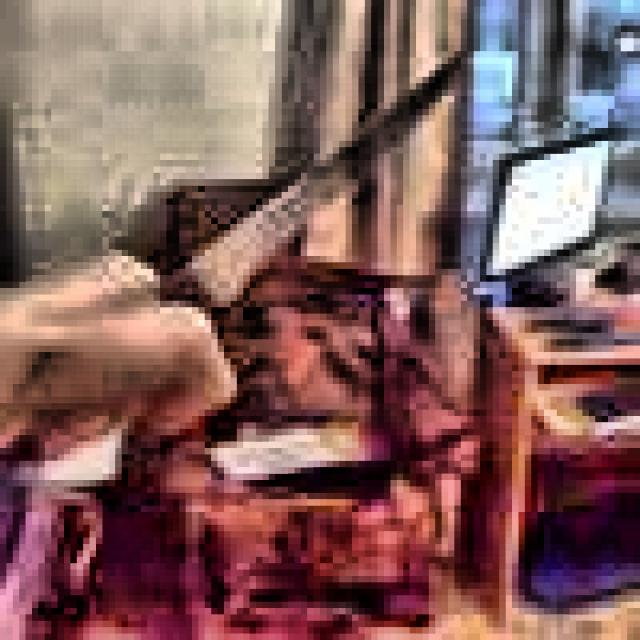knife: (2, 51, 478, 459)
